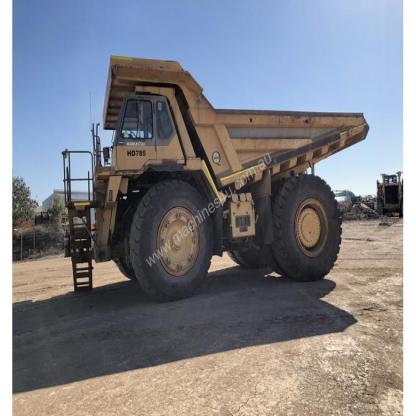dump_truck: (62, 51, 368, 291)
